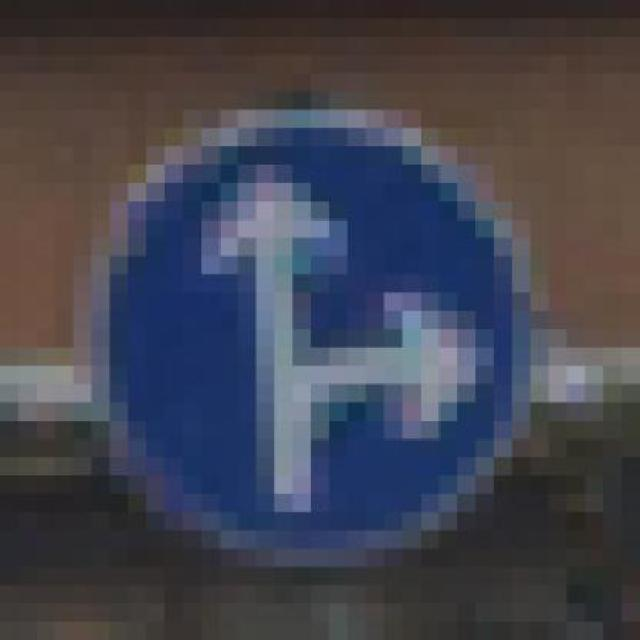Go Straight or Turn Right: (55, 91, 567, 548)
